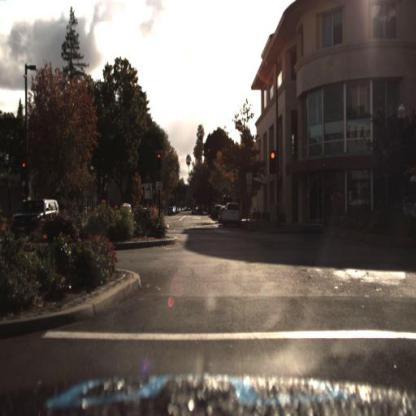car: (9, 191, 64, 238), (222, 199, 242, 226)
trafficLight: (19, 153, 30, 181)
trafficLight-Red: (268, 142, 278, 174), (154, 148, 165, 174), (22, 160, 27, 183)
trafficLight-RedLeft: (156, 148, 164, 173)
